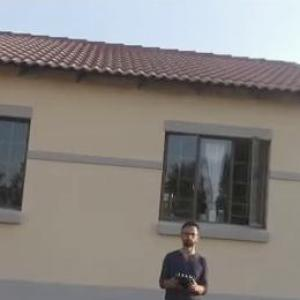follow: (152, 214, 215, 298)
